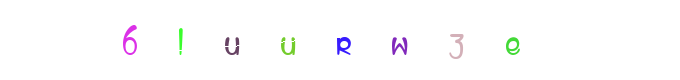6: (89, 0, 169, 80)
E: (350, 0, 430, 80)
L: (192, 0, 272, 80)
R: (303, 0, 383, 80)
U: (297, 0, 377, 80), (300, 0, 380, 80)
W: (315, 0, 395, 80)
Z: (332, 0, 412, 80)
